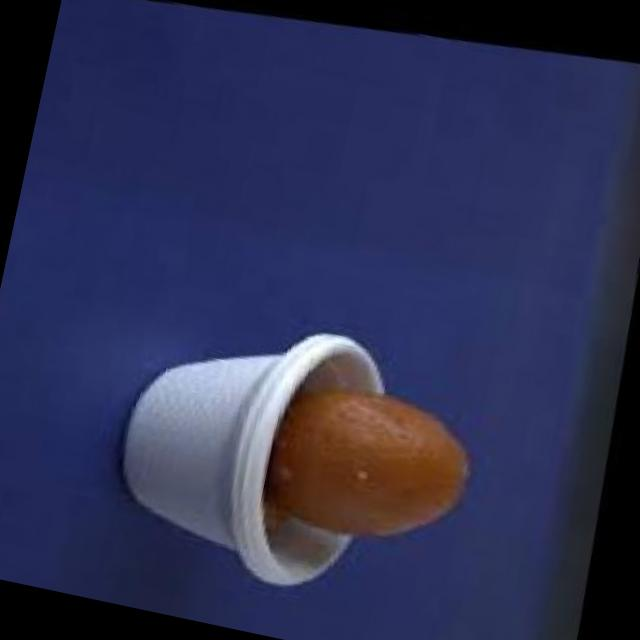gulab_jamun: (255, 365, 486, 560)
